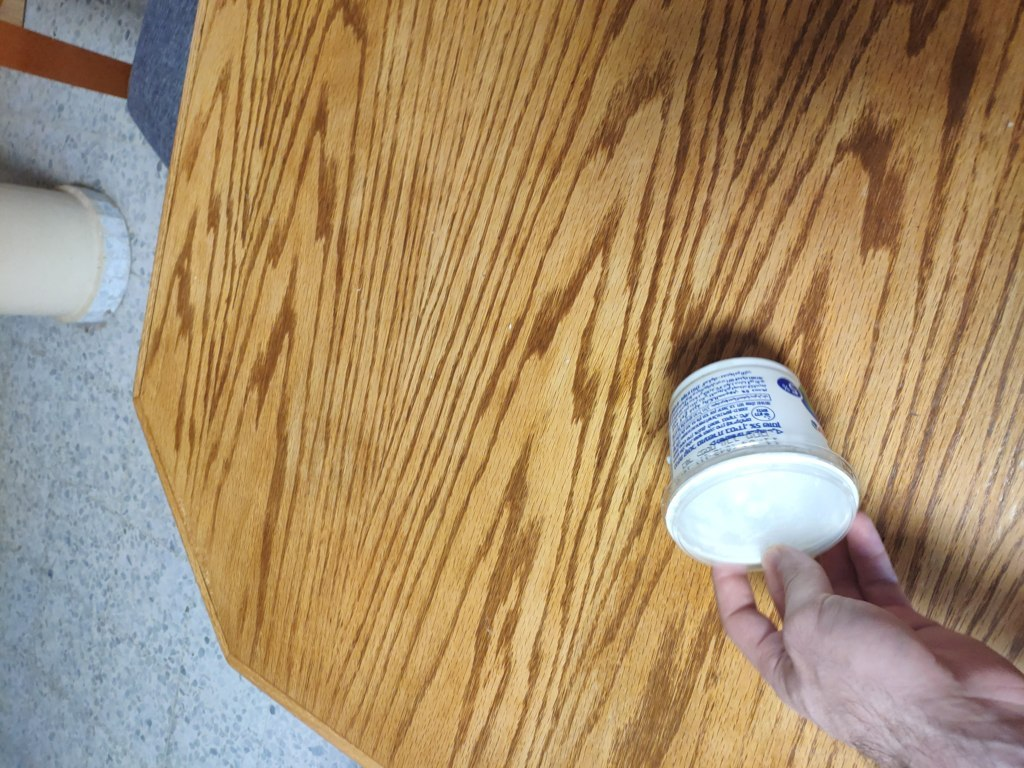Cotage: (640, 350, 848, 553)
